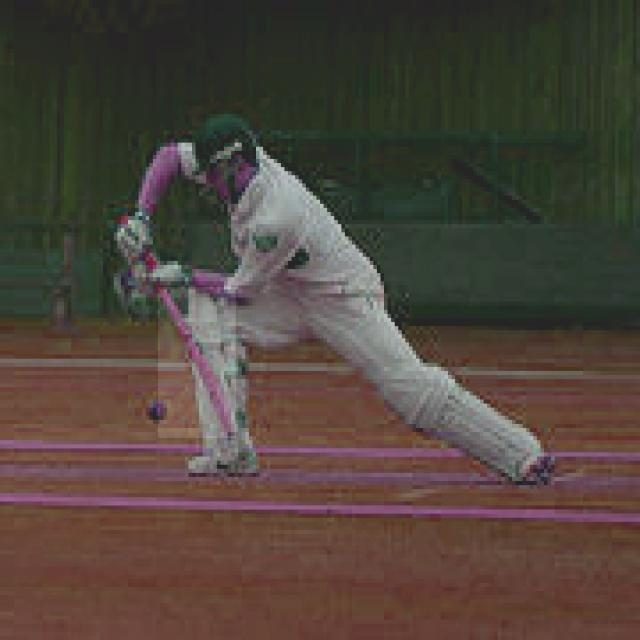bat: (158, 279, 236, 440)
